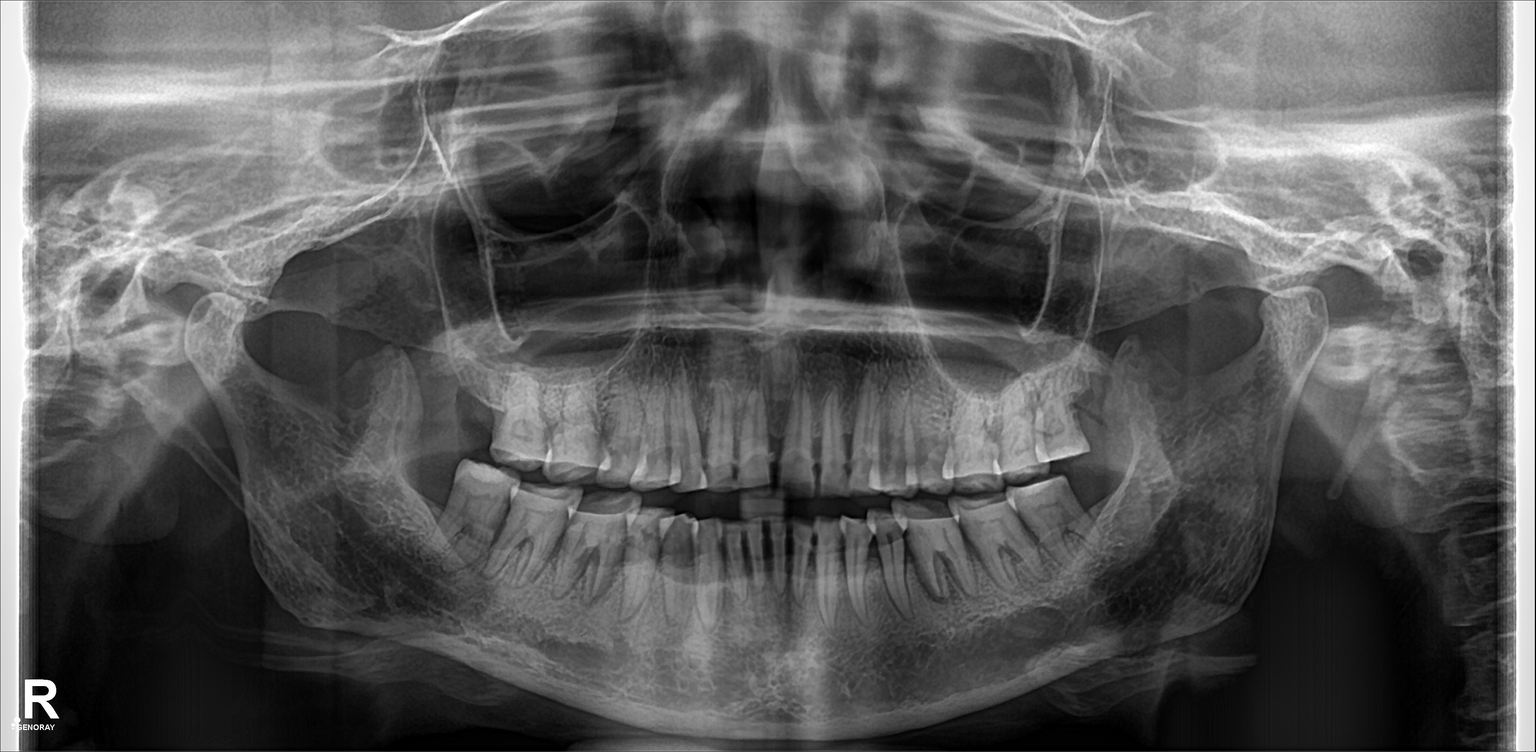Missing Tooth: (412, 359, 459, 454), (1076, 365, 1120, 457), (466, 363, 502, 453), (406, 460, 457, 523), (1086, 467, 1134, 529)
